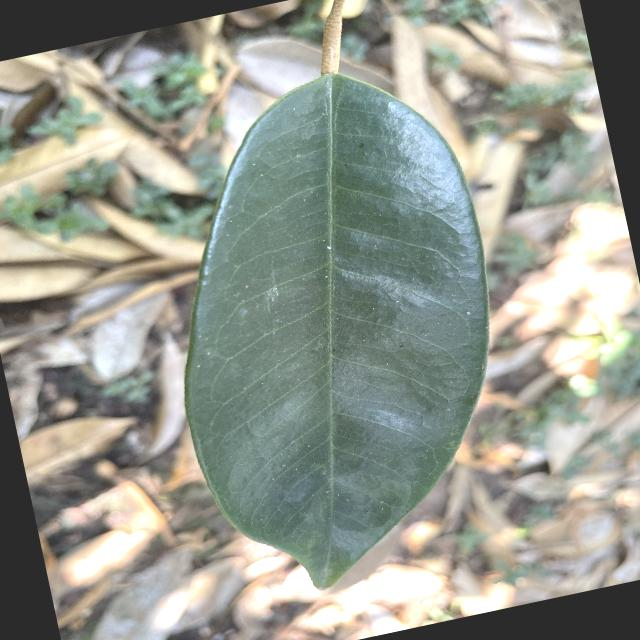No Disease: (114, 39, 562, 619)
